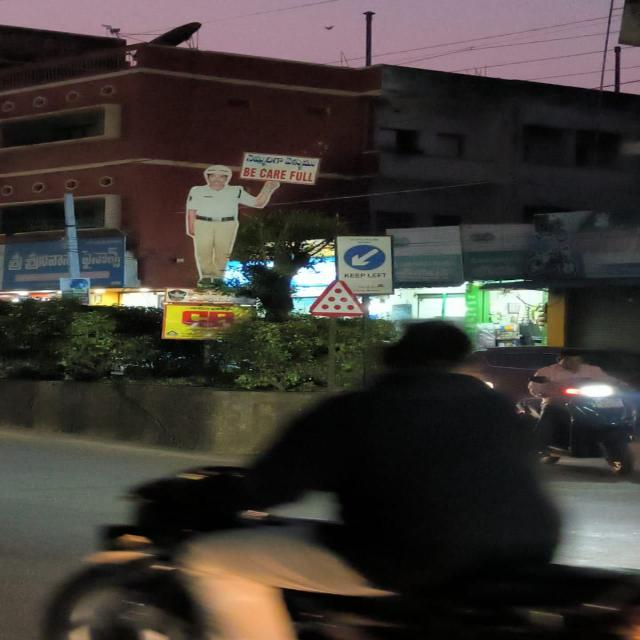compulsory_keep_left: (347, 246, 388, 271)
